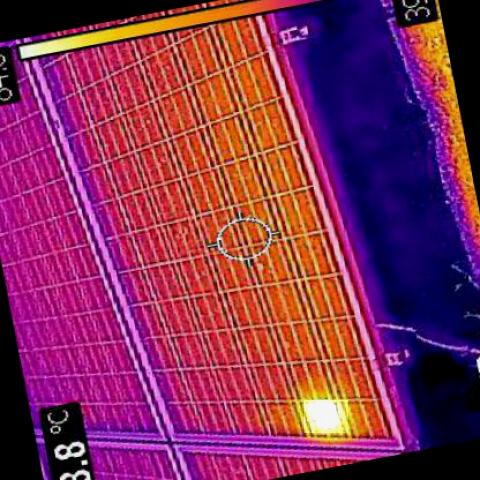fault: (304, 400, 348, 433)
